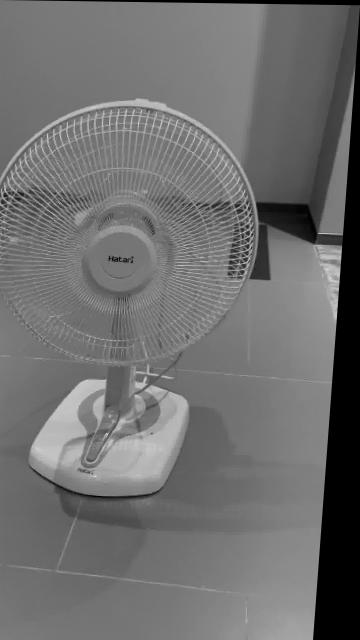Fan: (0, 99, 262, 499)
